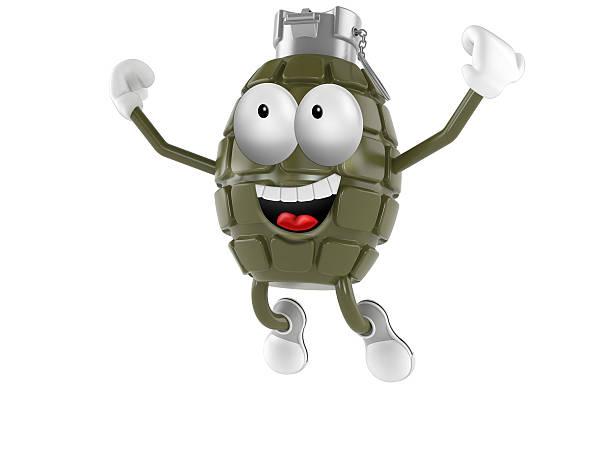e1: (213, 4, 404, 289)
